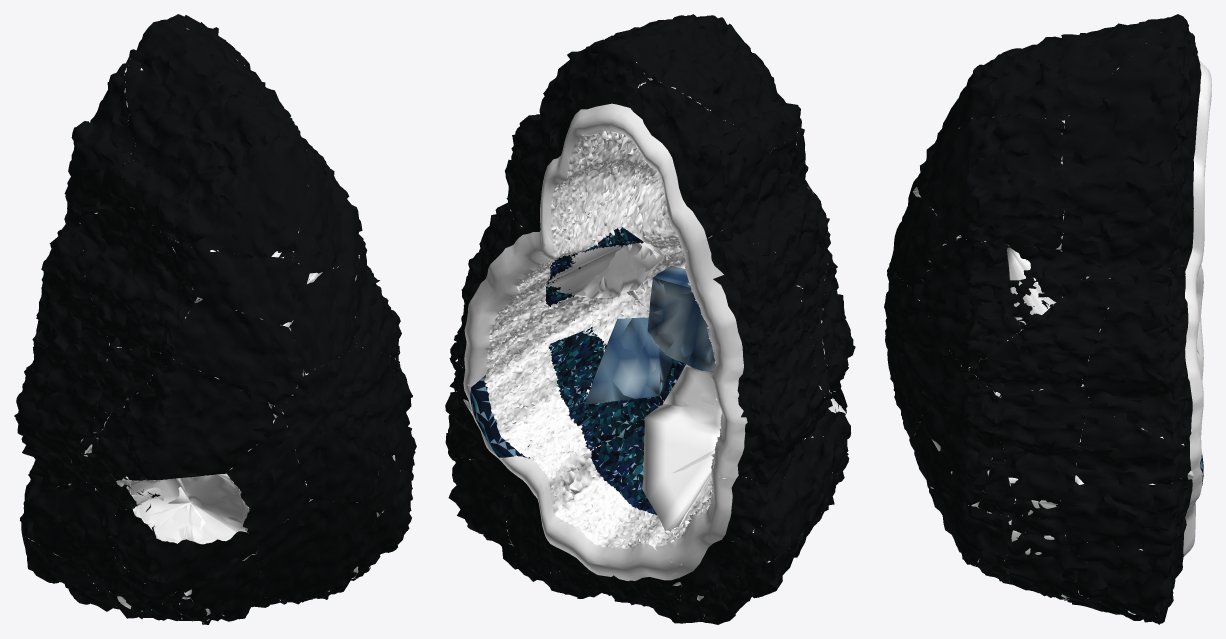
File: geode-fracture-v3.glb
3 renders of one model, left to right at view 1: azimuth 30°, elevation 25°; view 2: azimuth 150°, elevation 25°; view 3: azimuth 270°, elevation 25°, orthographic.
Parts seen in each view (by area): view 1: Geode fragment 07, Geode fragment 72, Geode fragment 47, Geode fragment 38, Geode fragment 10, Geode fragment 11, Geode fragment 52, Geode fragment 64, Geode fragment 08, Geode fragment 06, Geode fragment 34, Geode fragment 56 (+15 smaller); view 2: Geode fragment 47, Geode fragment 05, Geode fragment 06, Geode fragment 61, Geode fragment 07, Geode fragment 62, Geode fragment 17, Geode fragment 39, Geode fragment 34, Geode fragment 10, Geode fragment 15, Geode fragment 20 (+23 smaller); view 3: Geode fragment 05, Geode fragment 62, Geode fragment 04, Geode fragment 02, Geode fragment 07, Geode fragment 22, Geode fragment 01, Geode fragment 53, Geode fragment 73, Geode fragment 38, Geode fragment 57, Geode fragment 65 (+8 smaller).
Part boxes in pixels (bbox=[...]): Geode fragment 07: bbox=[120, 18, 311, 259]; Geode fragment 72: bbox=[84, 359, 280, 481]; Geode fragment 47: bbox=[14, 201, 109, 457]; Geode fragment 38: bbox=[281, 346, 395, 502]; Geode fragment 10: bbox=[74, 207, 197, 353]; Geode fragment 11: bbox=[166, 297, 305, 409]; Geode fragment 52: bbox=[256, 499, 378, 603]; Geode fragment 64: bbox=[109, 502, 262, 593]; Geode fragment 08: bbox=[169, 239, 309, 327]; Geode fragment 06: bbox=[64, 53, 135, 214]; Geode fragment 34: bbox=[20, 478, 116, 573]; Geode fragment 56: bbox=[181, 410, 309, 538]; Geode fragment 47: bbox=[684, 226, 824, 481]; Geode fragment 05: bbox=[505, 38, 647, 253]; Geode fragment 06: bbox=[541, 77, 772, 261]; Geode fragment 61: bbox=[498, 447, 681, 586]; Geode fragment 07: bbox=[608, 14, 801, 148]; Geode fragment 62: bbox=[452, 202, 554, 386]; Geode fragment 17: bbox=[642, 364, 721, 534]; Geode fragment 39: bbox=[470, 304, 572, 458]; Geode fragment 34: bbox=[676, 436, 832, 595]; Geode fragment 10: bbox=[732, 137, 829, 287]; Geode fragment 15: bbox=[665, 429, 806, 566]; Geode fragment 20: bbox=[584, 317, 673, 404]; Geode fragment 05: bbox=[1060, 17, 1211, 282]; Geode fragment 62: bbox=[1082, 264, 1203, 447]; Geode fragment 04: bbox=[917, 115, 1067, 249]; Geode fragment 02: bbox=[913, 233, 1093, 369]; Geode fragment 07: bbox=[923, 14, 1183, 163]; Geode fragment 22: bbox=[996, 386, 1090, 519]; Geode fragment 01: bbox=[968, 273, 1118, 394]; Geode fragment 53: bbox=[1047, 466, 1202, 554]; Geode fragment 73: bbox=[911, 366, 998, 506]; Geode fragment 38: bbox=[884, 266, 961, 448]; Geode fragment 57: bbox=[1071, 405, 1201, 486]; Geode fragment 65: bbox=[1065, 524, 1186, 618].
Bounding box in the file's own units: 0.492 × 0.8021 × 0.4207.
